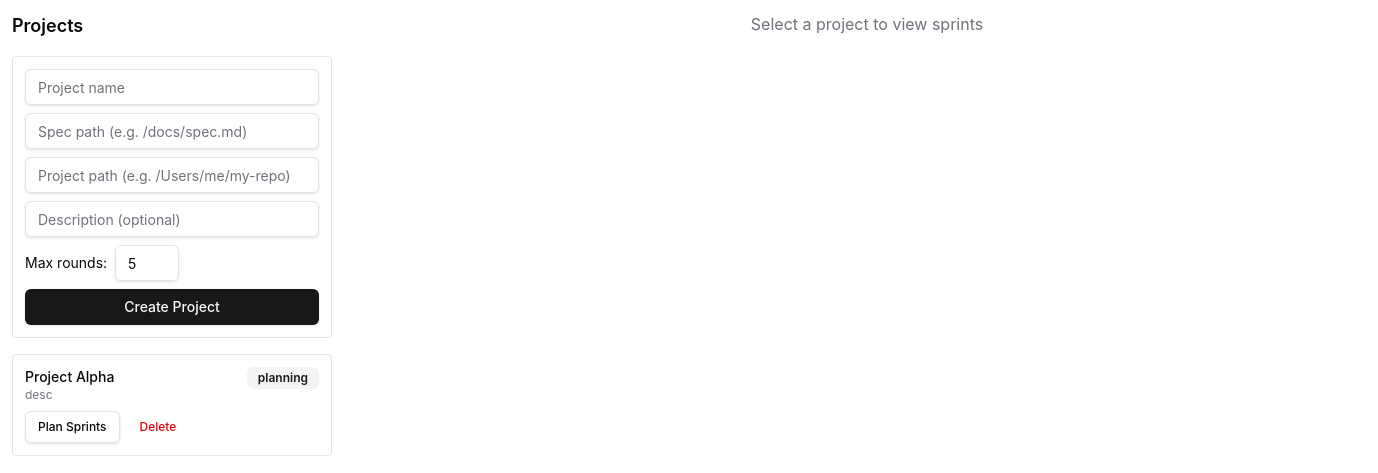
Test: HarnessView › selects a project and shows sprint panel
Click the text "Project Alpha". click: (70, 377)
box: [25,367,114,387]
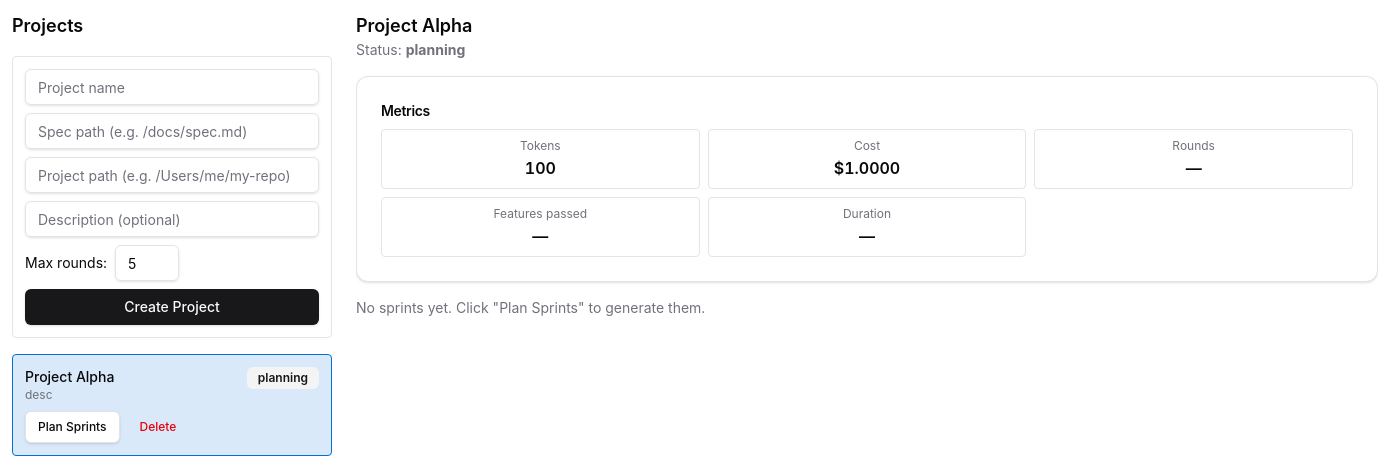
Check: the text "Features passed" is shown, box [494,206,587,221]
